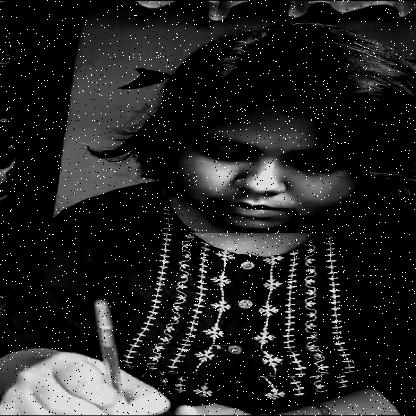Normal: (164, 93, 368, 233)
